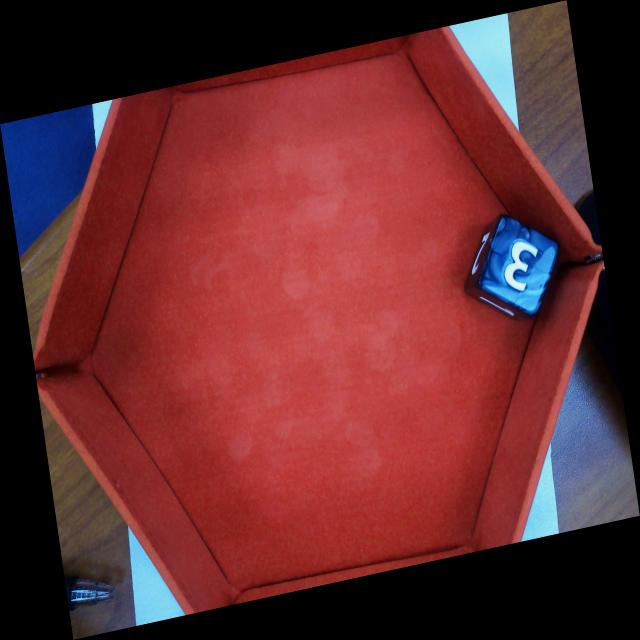dice: (478, 215, 557, 312)
